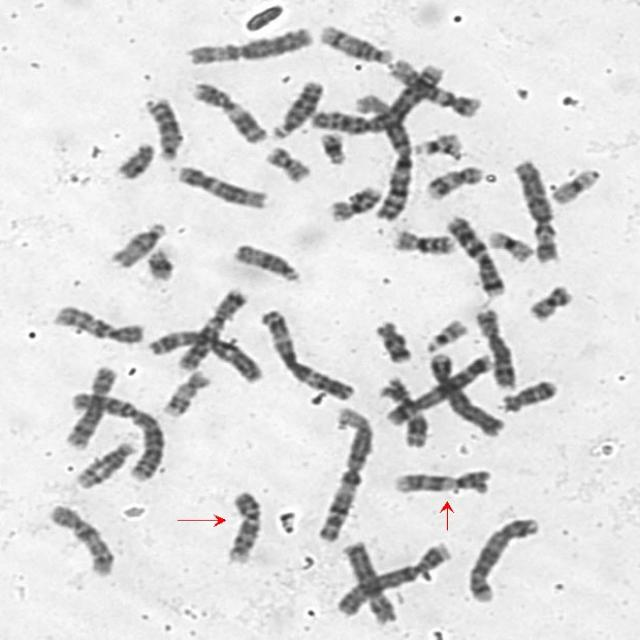A1: (353, 89, 416, 223), (316, 405, 376, 543)
A2: (307, 60, 448, 136), (65, 387, 167, 484)
A3: (256, 305, 357, 402), (144, 326, 266, 383)
B4: (332, 538, 454, 618), (425, 349, 506, 437)
B5: (385, 352, 498, 428), (462, 512, 544, 604)
C10: (44, 500, 117, 580), (50, 302, 146, 346)
C11: (188, 79, 267, 145), (379, 375, 430, 449)
C12: (386, 56, 482, 119), (172, 162, 270, 210)
C6: (180, 22, 314, 66), (509, 155, 559, 266)
C7: (173, 284, 251, 373), (443, 212, 507, 297)
C8: (62, 361, 119, 449), (470, 306, 518, 391)
C9: (223, 488, 264, 564), (391, 468, 494, 496)
D13: (270, 76, 326, 140), (142, 94, 184, 161)
D14: (72, 436, 140, 490), (315, 22, 394, 65)
D15: (230, 240, 304, 284), (106, 219, 168, 269)
E16: (324, 182, 384, 224), (388, 227, 457, 256)
E17: (159, 368, 211, 418), (422, 161, 485, 202)
E18: (498, 376, 560, 414), (369, 317, 413, 365)
F19: (548, 165, 603, 205), (484, 227, 535, 264)
F20: (524, 282, 576, 324), (262, 143, 314, 184)
G21: (142, 245, 178, 284), (317, 129, 349, 166)
G22: (420, 316, 470, 352), (409, 130, 464, 158)
X: (338, 539, 398, 625)
Y: (115, 140, 158, 182)
